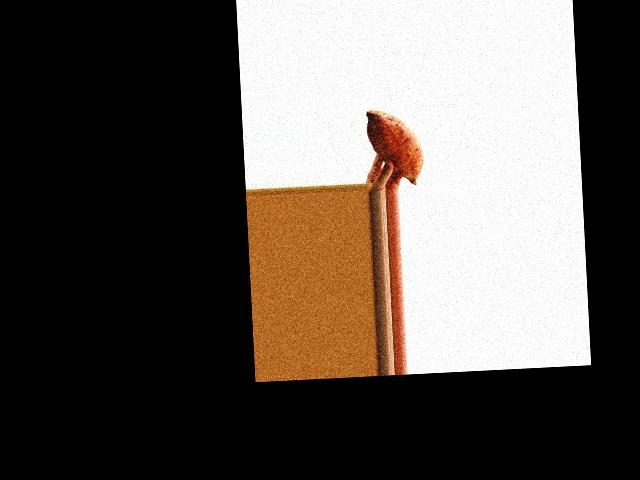sweet_potato: (363, 105, 429, 184)
